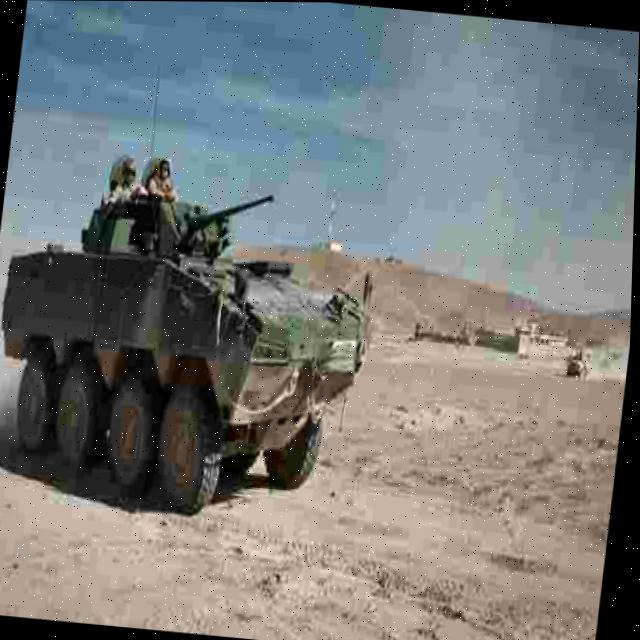MIL_APC: (0, 177, 375, 524)
